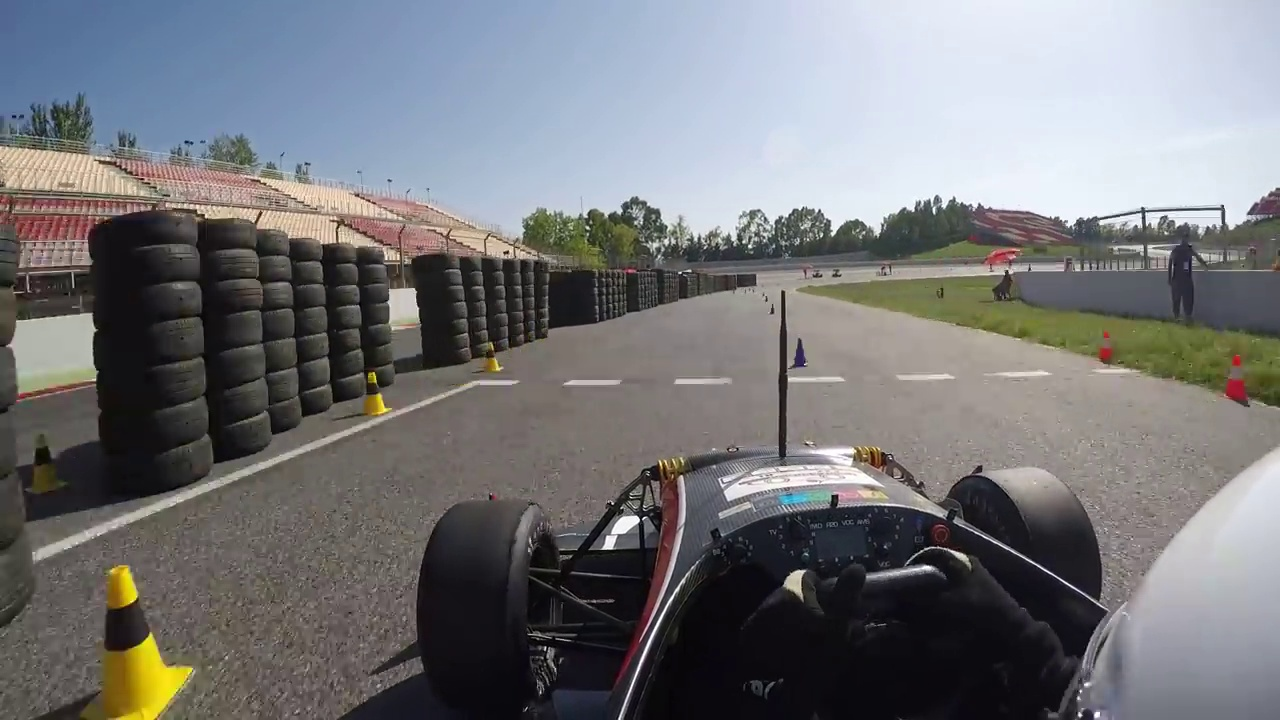Cone: (85, 562, 197, 718), (26, 430, 68, 495), (1220, 354, 1250, 402), (358, 370, 385, 418), (479, 340, 503, 373), (789, 338, 811, 367)
